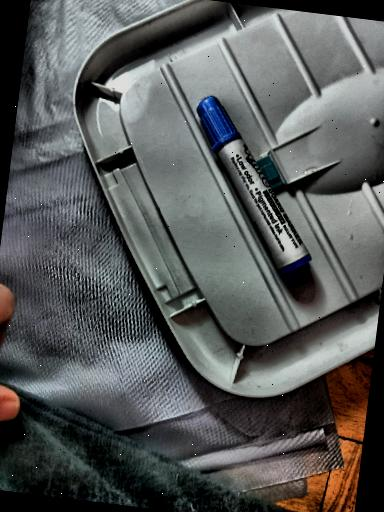marcador azul: (196, 96, 311, 278)
